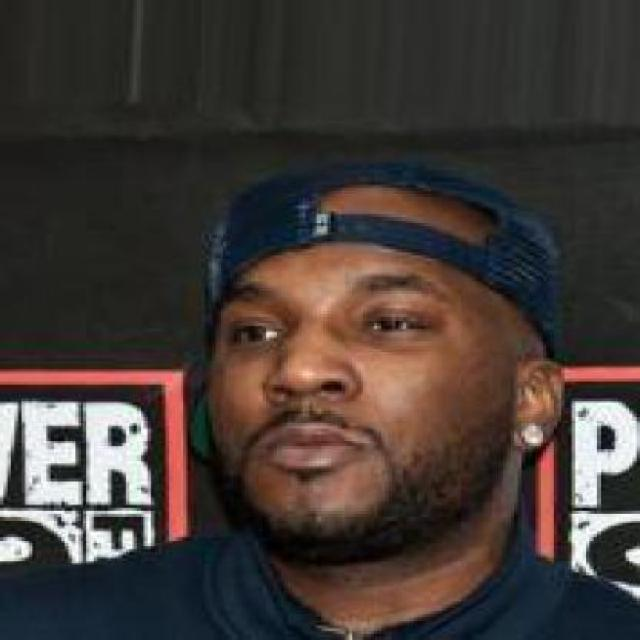closed-mouth: (255, 420, 382, 478)
